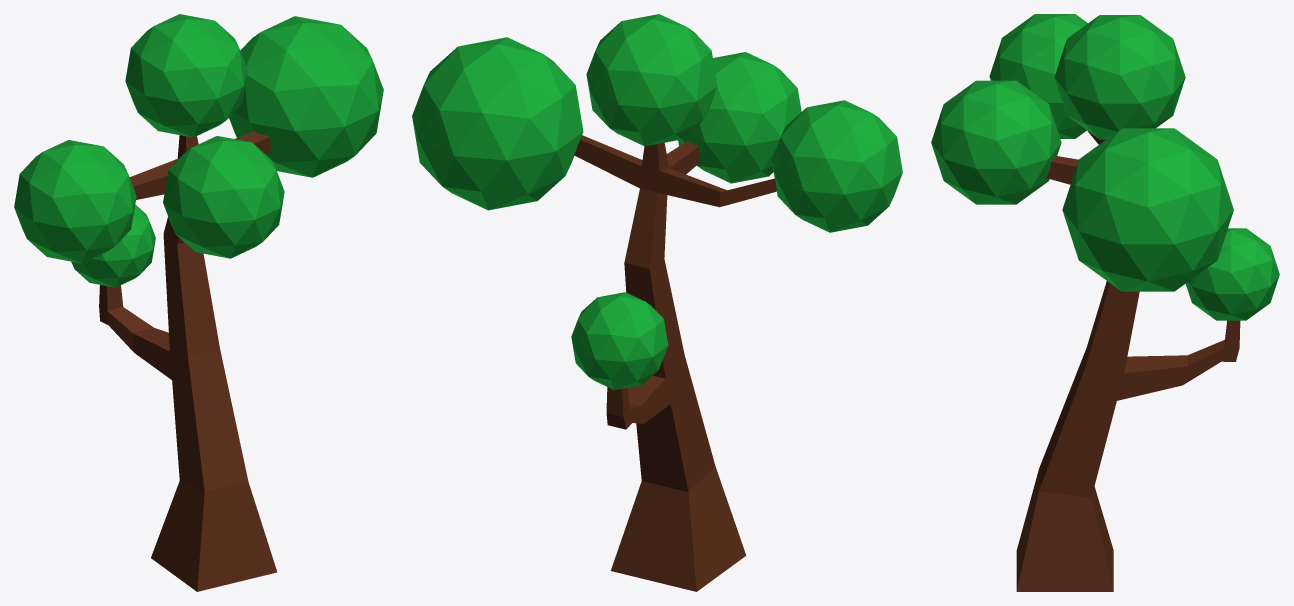
The model's file is Tree 1.fbx.
3 renders of one model, left to right at view 1: azimuth 30°, elevation 25°; view 2: azimuth 150°, elevation 25°; view 3: azimuth 270°, elevation 25°, orthographic. The views are drawn at different scales.
Parts seen in each view (by area): view 1: Cube; view 2: Cube; view 3: Cube.
Part boxes in pixels (<box>): Cube: <box>14,14,383,591</box>; Cube: <box>412,14,902,591</box>; Cube: <box>931,14,1279,591</box>.
Size of the model in its own units: 523 by 672 by 384.
